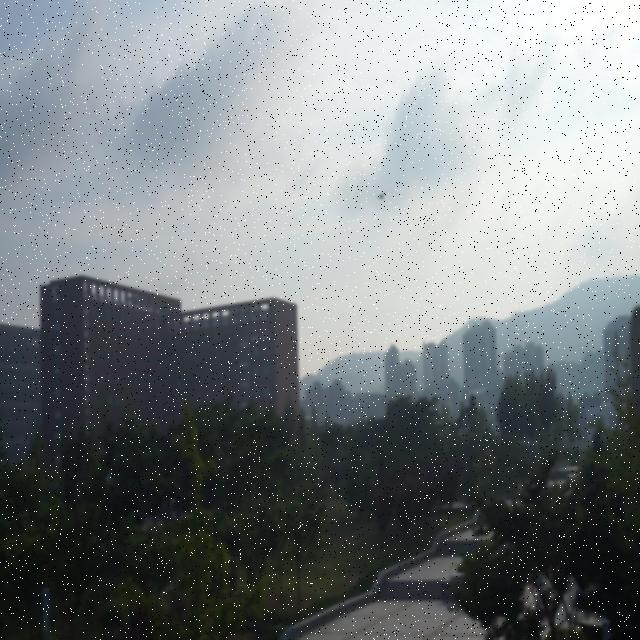UAV: (377, 192, 386, 202)
